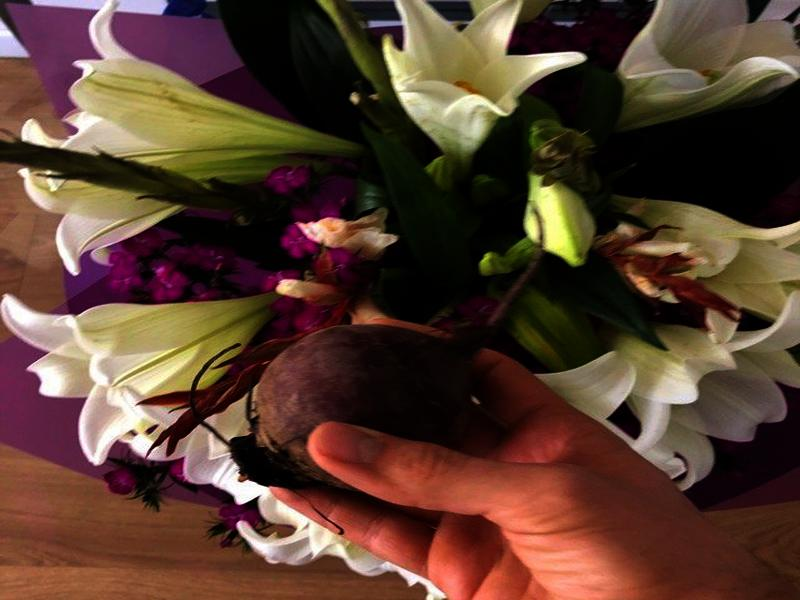Beet: (189, 205, 545, 489)
